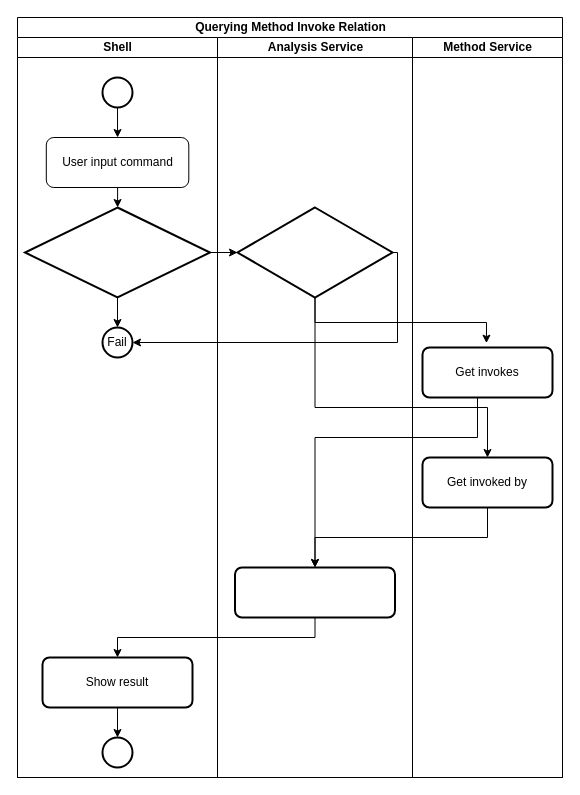
Image size: 580x795. Some labels were removed from this diagram. The shapes that lost their labels are listed below. From the top down, each one's centre as x and y in pixels, then its label:
point 117,252: Command is invalid or missing parameters
point 314,252: There is already an opened project
point 315,592: Integrate and process the results
point 117,752: End
